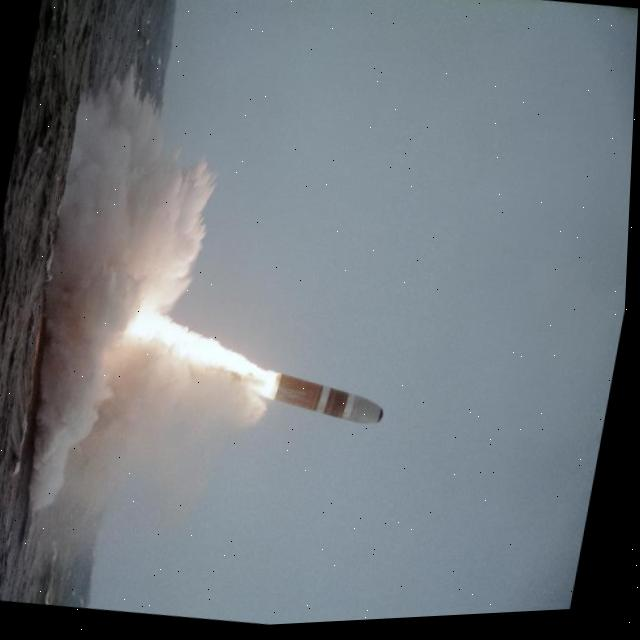missile: (261, 372, 397, 450)
